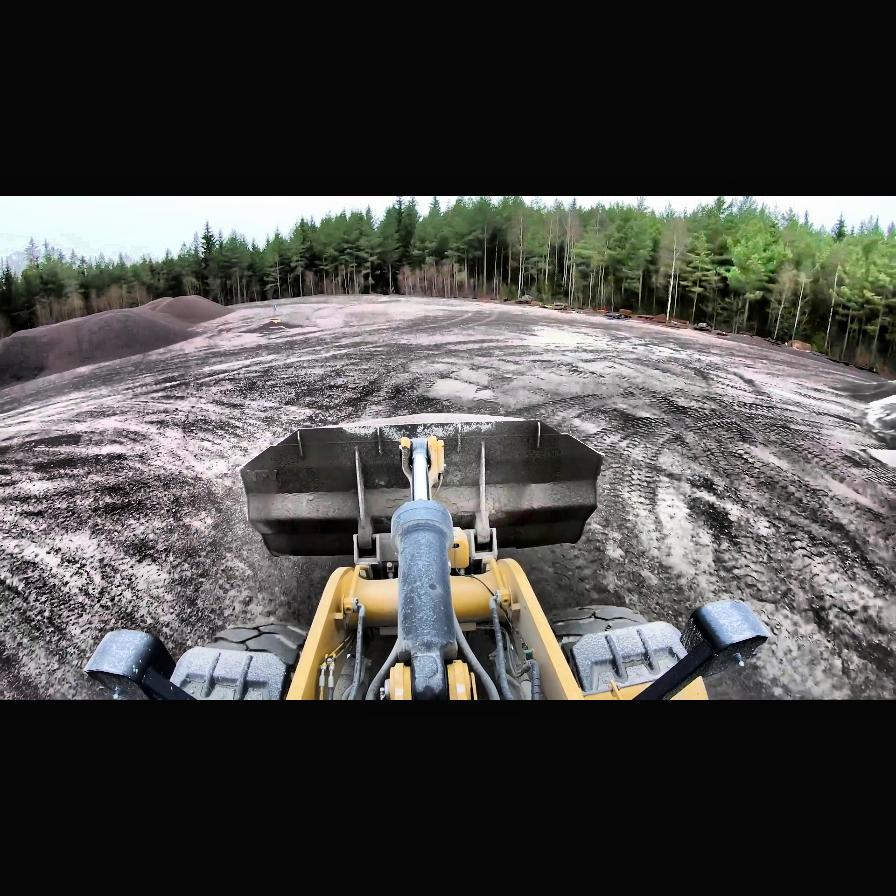anchor: (400, 436, 444, 500)
pile of gravel: (2, 304, 206, 396), (144, 296, 236, 330), (866, 448, 896, 470)
